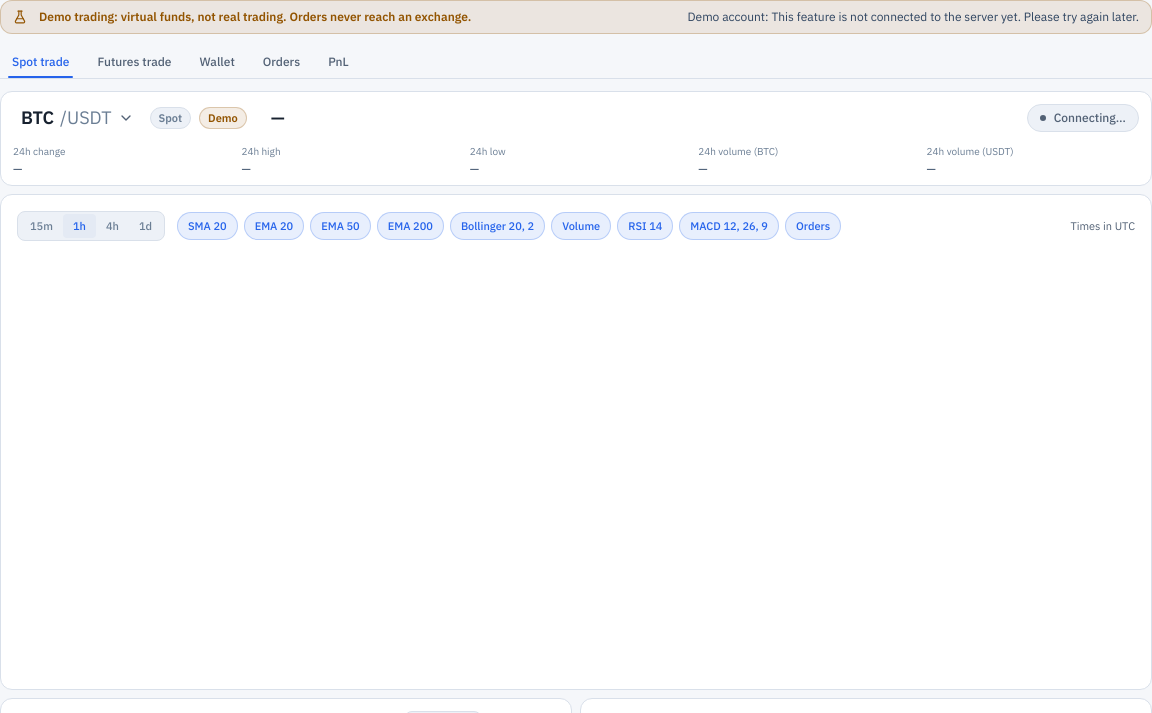
Test: Spot demo trading layout (TR-F1, D-86) › finds, sorts and switches pairs from the selector
Click the button with aria-label "Choose a pair (current: BTC/USDT)".
click(77, 118)  # box [13,100,142,136]
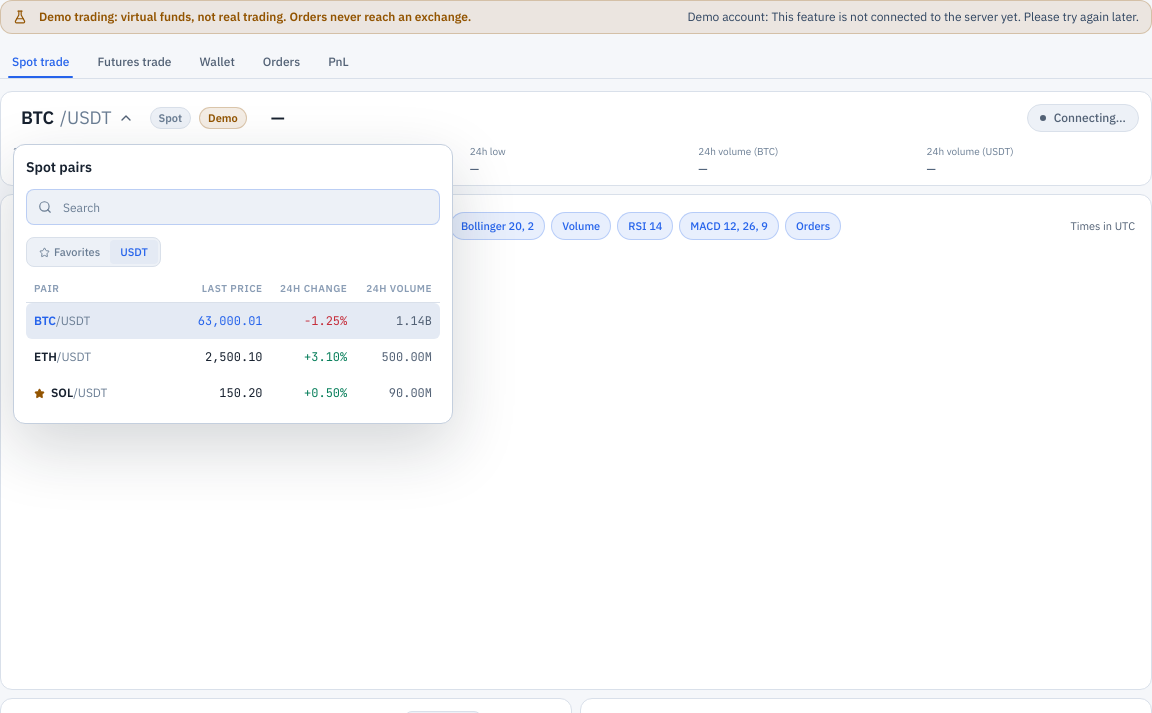
Click the button with aria-label "Sort by 24h change".
click(309, 288)  # box [271,281,347,296]
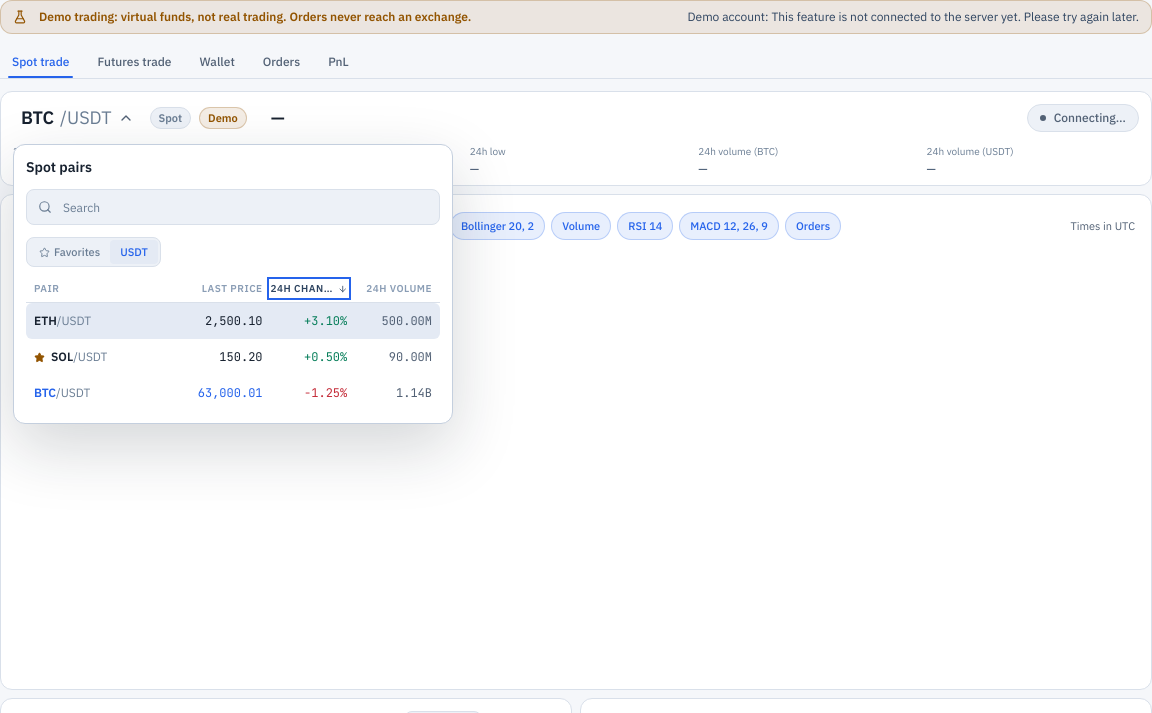
Click the radio button labelled "Favorites".
click(70, 252)  # box [29,240,110,264]
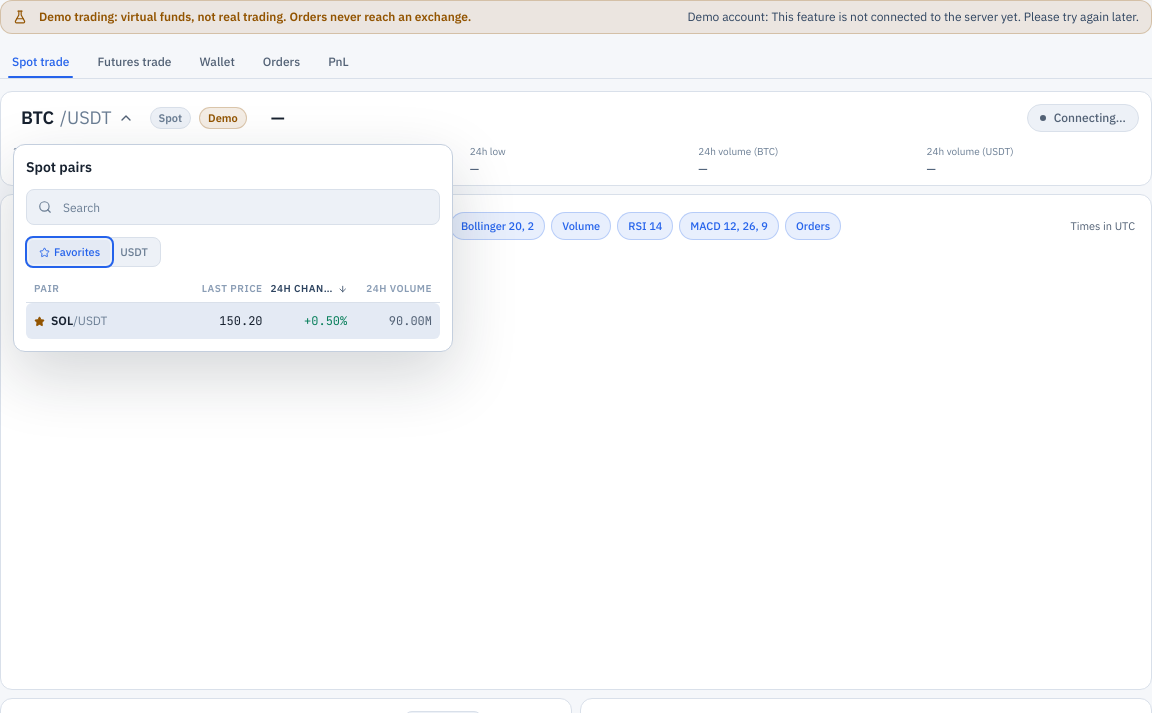
Click the radio button labelled "USDT".
click(134, 252)  # box [110,240,158,264]
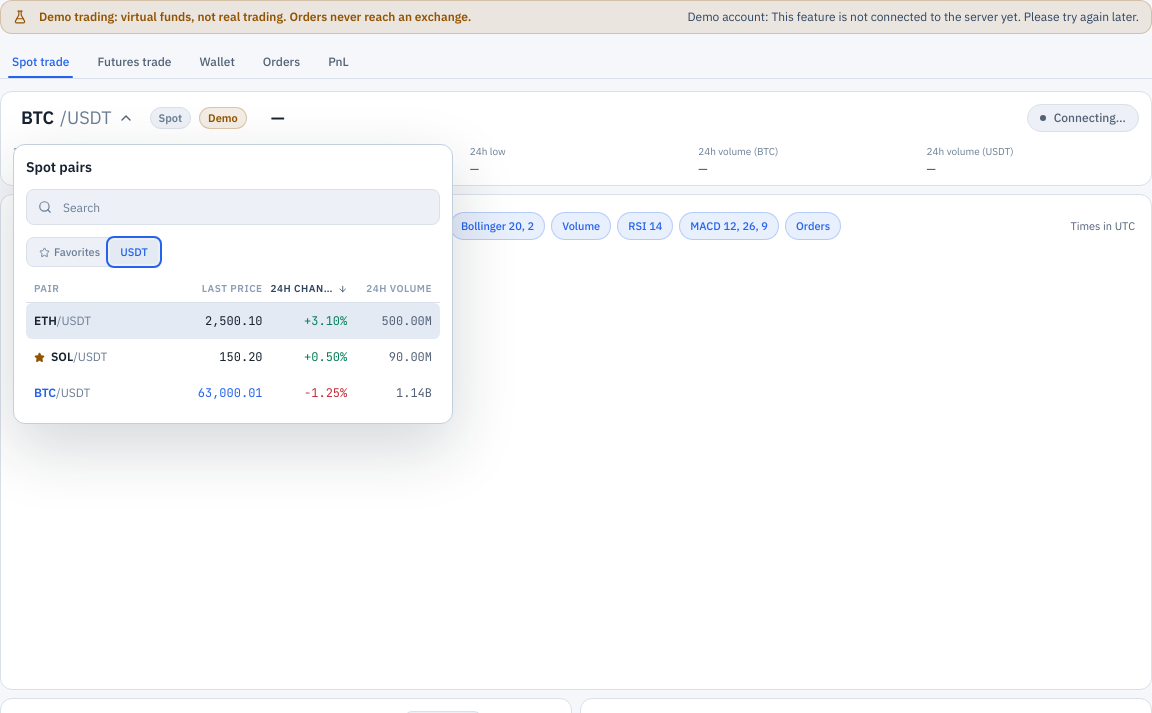
Type "ethereum" into the dropdown named "Search pairs".
click(233, 207); type("ethereum")  # box [26,189,440,225]
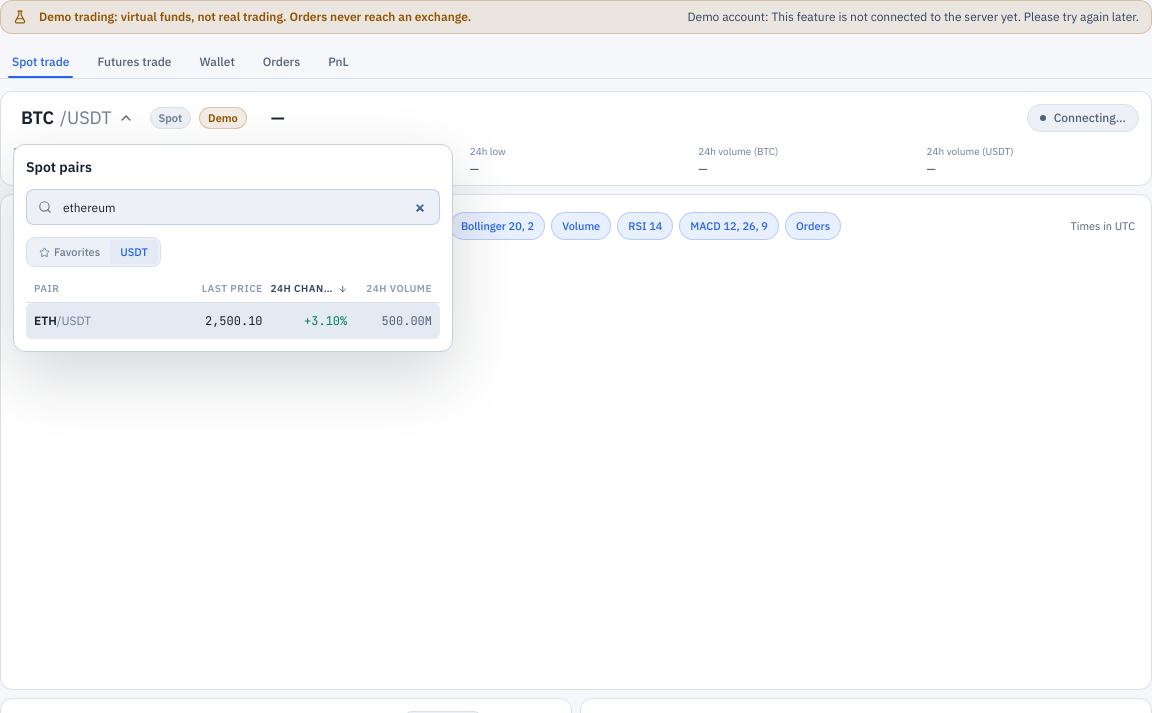
Press Enter
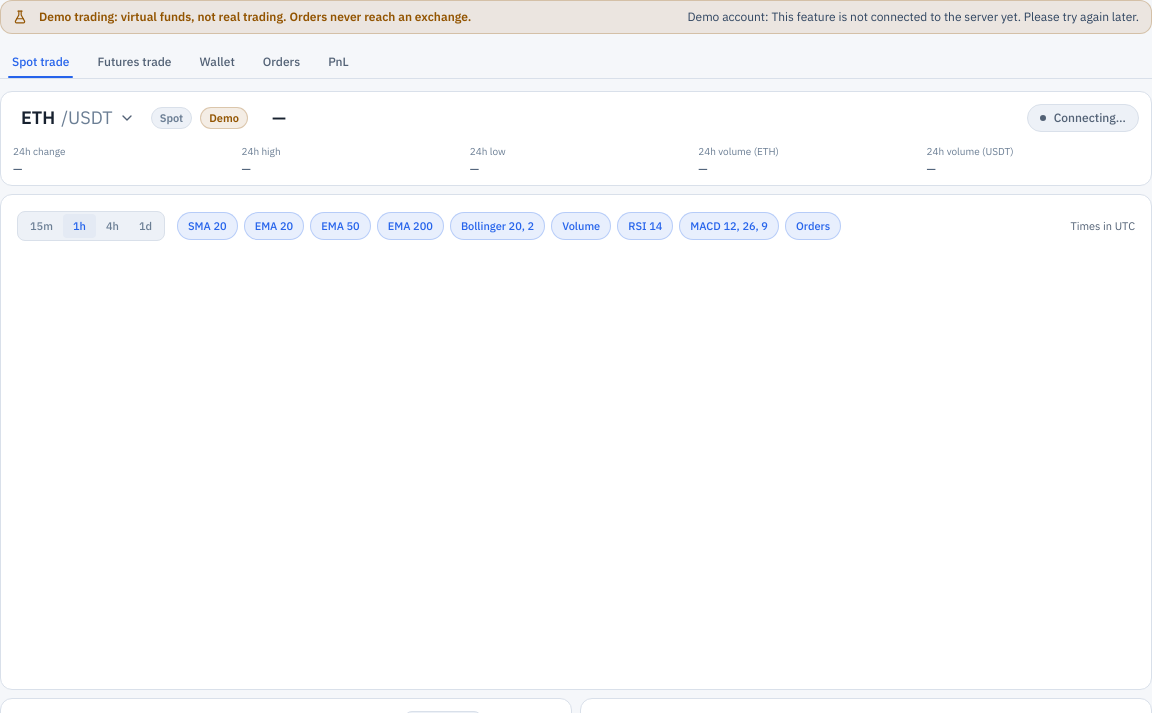
Now the button with aria-label "Choose a pair (current: ETH/USDT)" is shown, box [13,100,143,136]
Now the list is gone
